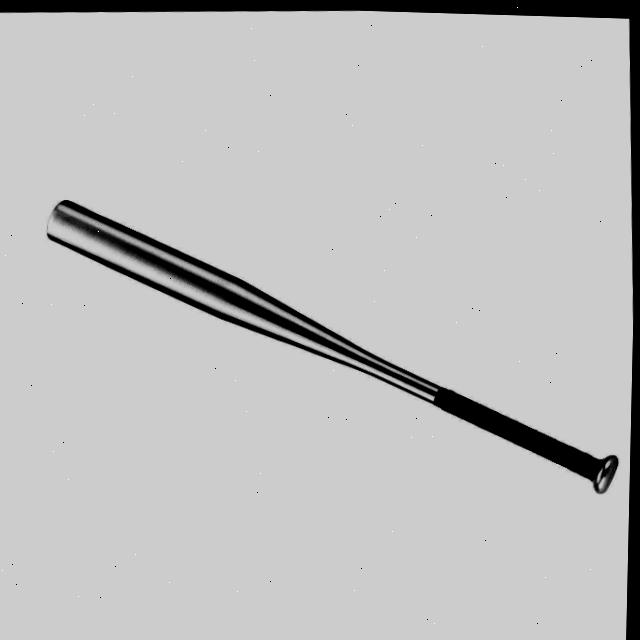baseball bat: (35, 177, 626, 508)
